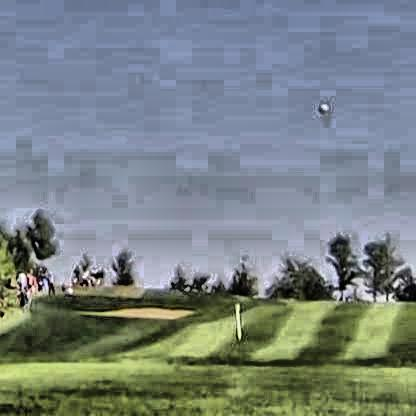golfball: (315, 99, 326, 111)
